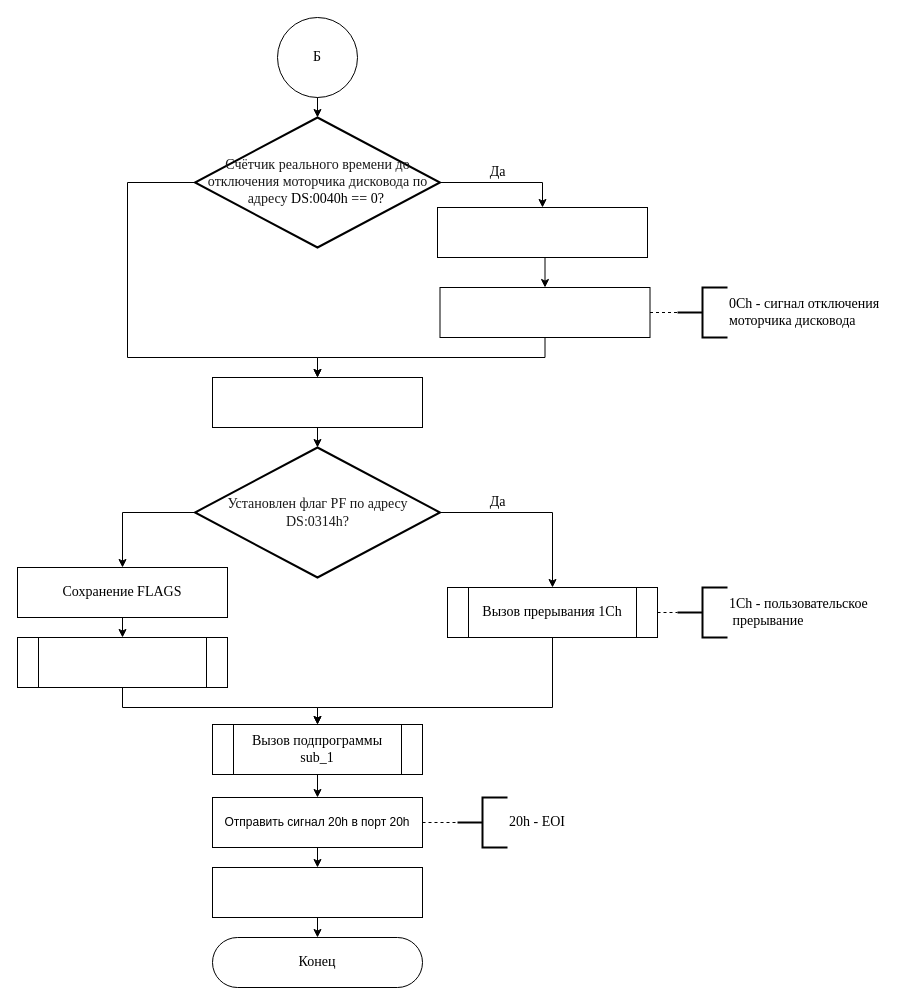
Some shapes in this 901 by 1005 pixel diagram are drawn without their labels. The shapes that lost their labels are listed below. From the top down, each one's box as (x1, y1, x2, y2) in pixels, then its label:
(436, 206, 648, 258): Сброс флага работы моторчика дисковода по адресу DS:003Fh
(439, 286, 650, 338): Отправить сигнал 0Ch в порт 3F3h дисковода
(212, 376, 422, 428): Восстановление AX
(16, 636, 228, 688): Косвенный вызов прерывания 1Ch
(212, 866, 422, 918): Восстановление DX, AX, DS, ES
